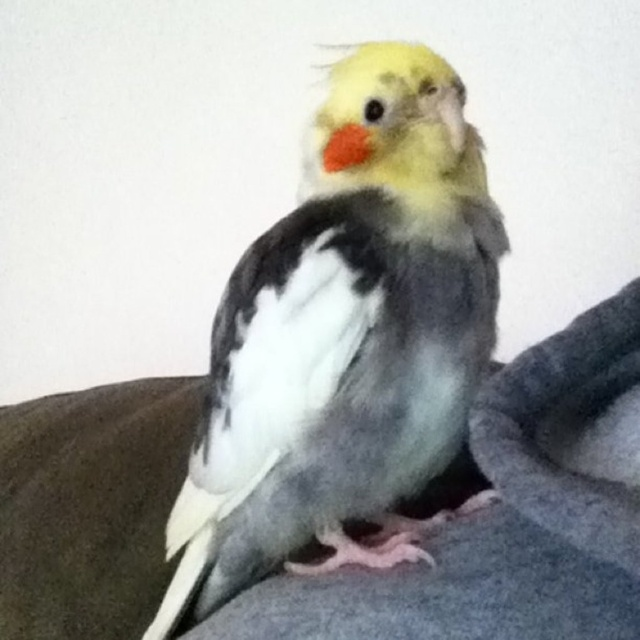Parrot: (142, 39, 513, 640)
